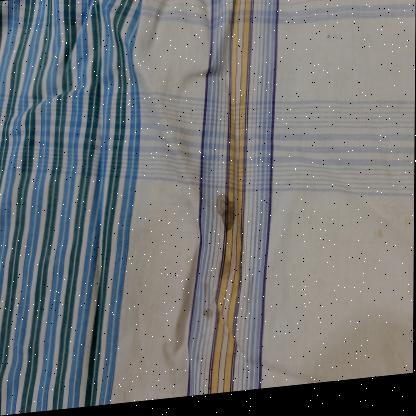spot: (209, 189, 244, 248), (217, 254, 237, 289), (201, 302, 217, 327), (198, 332, 208, 352)
